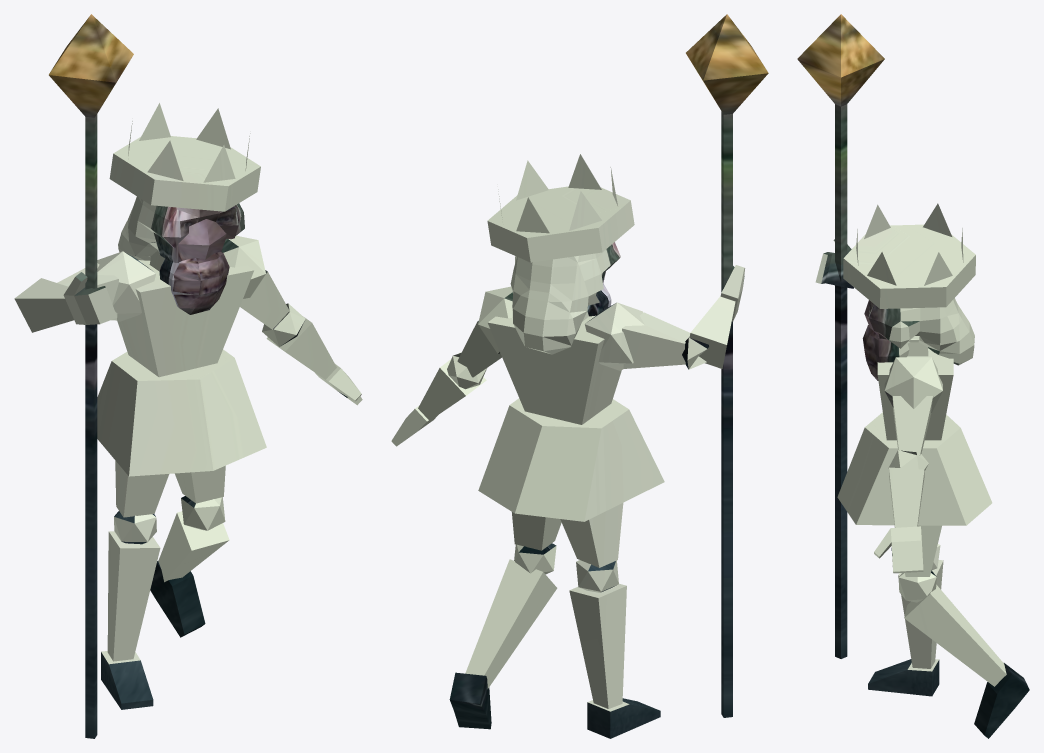
File: mitrikas.glb
3 renders of one model, left to right at view 1: azimuth 30°, elevation 25°; view 2: azimuth 150°, elevation 25°; view 3: azimuth 270°, elevation 25°, orthographic. The views are drawn at different scales.
Visible parts, largest first — view 1: Statue1; view 2: Statue1; view 3: Statue1.
Boxes of the visible parts, left/top/right/bottom form: Statue1: left=14, top=14, right=362, bottom=738; Statue1: left=391, top=14, right=768, bottom=738; Statue1: left=797, top=14, right=1029, bottom=738.
Bounding box in the file's own units: 1.31 × 2.62 × 0.8615.
1 material, 1 textured.
